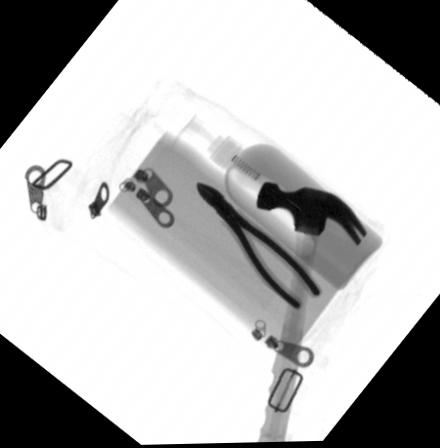Hammer: (254, 182, 364, 444)
Pliers: (194, 182, 323, 310)
